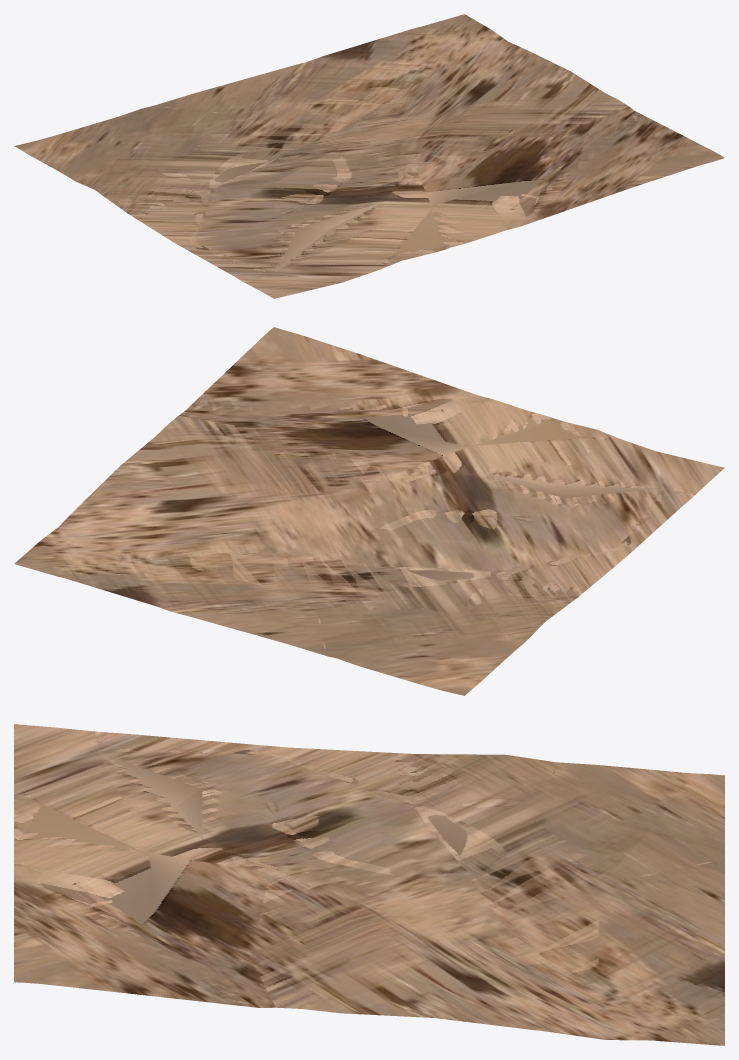
3 renders of one model, top to bottom at view 1: azimuth 30°, elevation 25°; view 2: azimuth 150°, elevation 25°; view 3: azimuth 270°, elevation 25°, orthographic. The views are drawn at different scales.
Bounding box in the file's own units: 2.09 × 0.3043 × 2.09.
3 materials, 3 textured.
